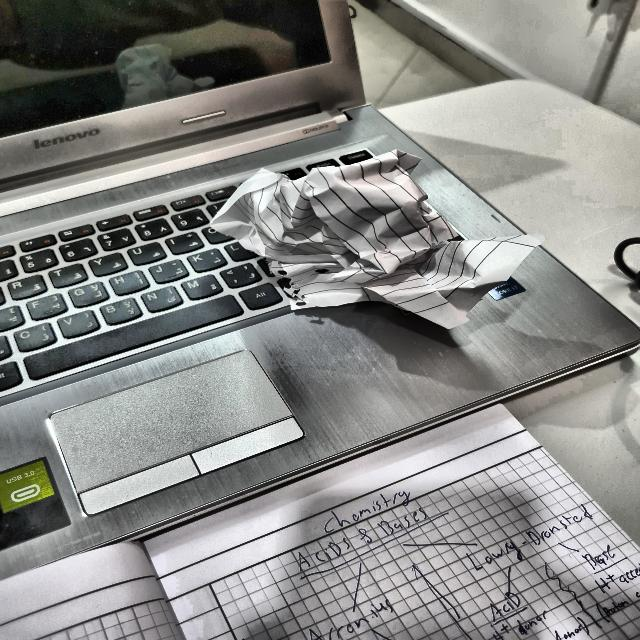Paper: (223, 151, 527, 318)
